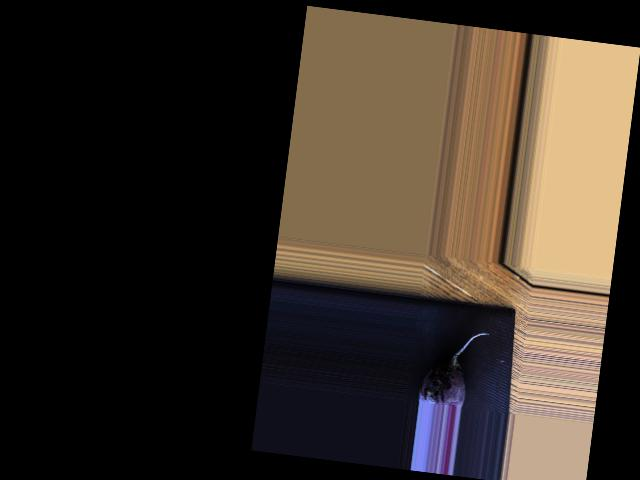beet: (417, 325, 488, 409)
